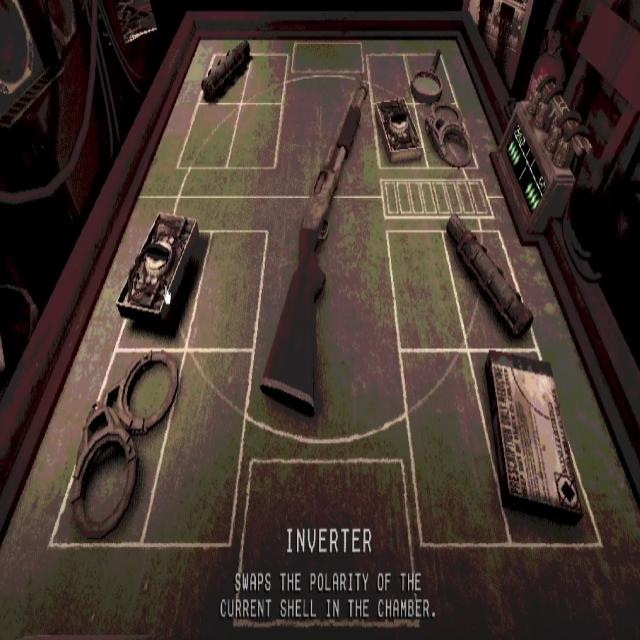changepolarity: (116, 213, 199, 319), (376, 99, 422, 163)
expired-medicine: (485, 350, 582, 524)
handcuff: (68, 349, 178, 538), (425, 103, 473, 168)
lens: (410, 49, 444, 104)
